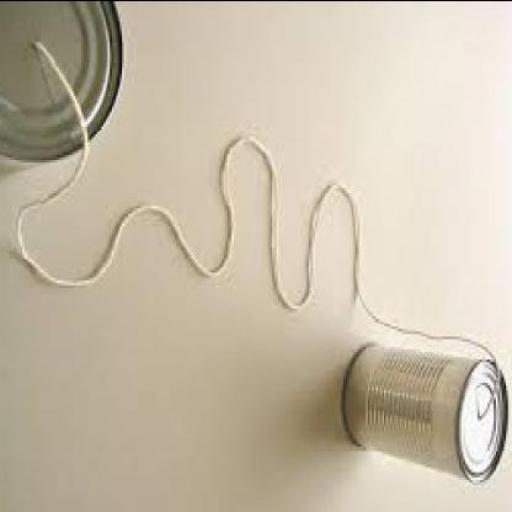metal: (343, 338, 510, 479), (1, 2, 128, 172)
